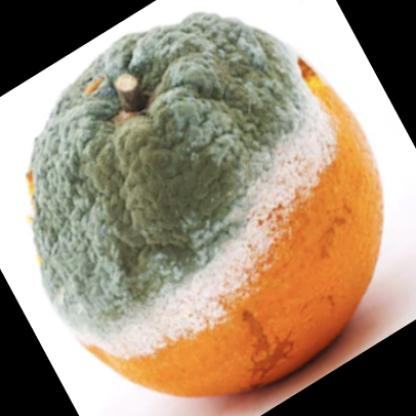rotten: (31, 14, 381, 399)
